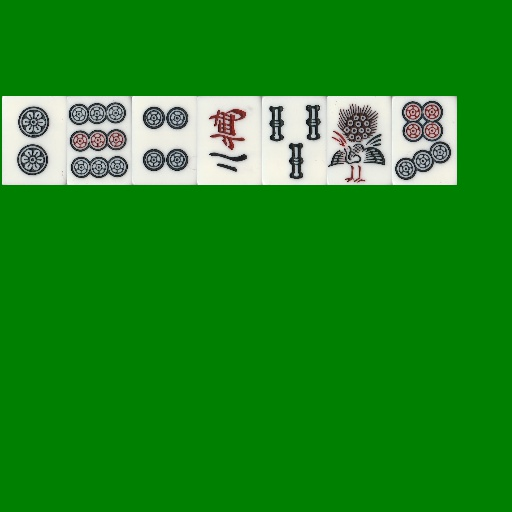1s: (327, 96, 392, 185)
2m: (197, 96, 262, 185)
2p: (2, 96, 67, 185)
3s: (262, 96, 327, 185)
4p: (132, 96, 197, 185)
7p: (392, 96, 457, 185)
9p: (67, 96, 132, 185)
